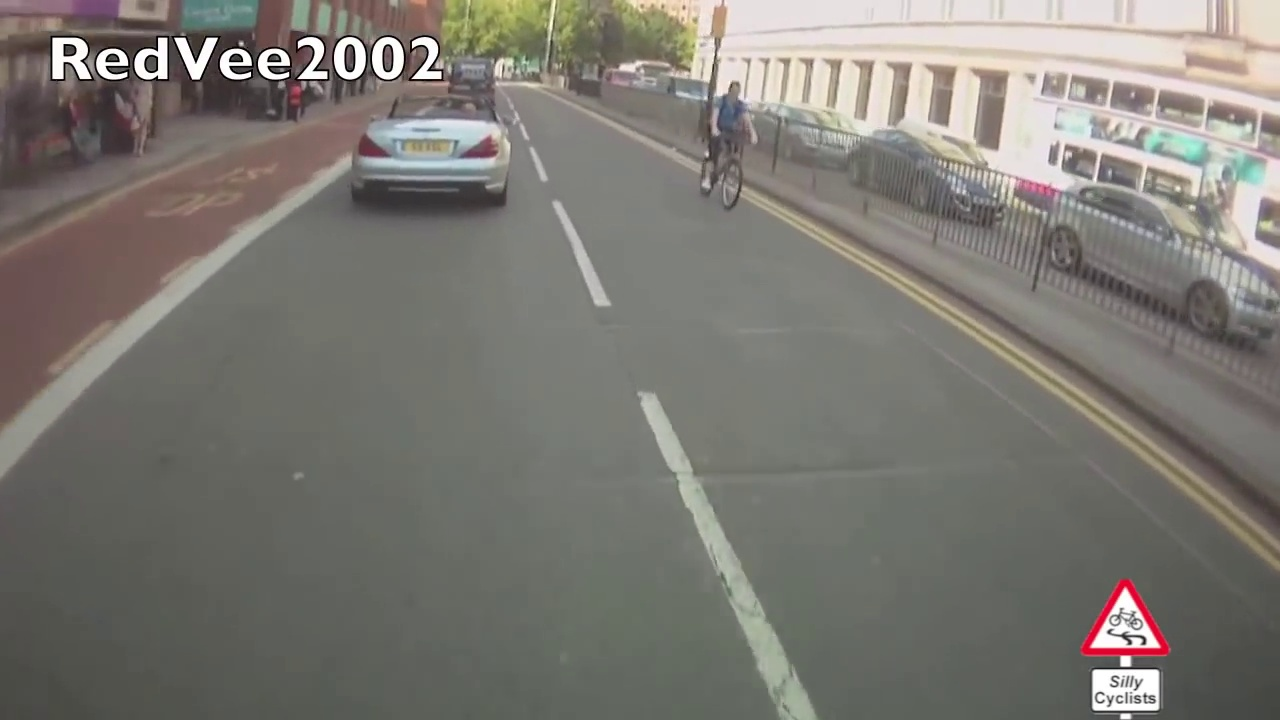cyclist_front: (687, 68, 764, 217)
